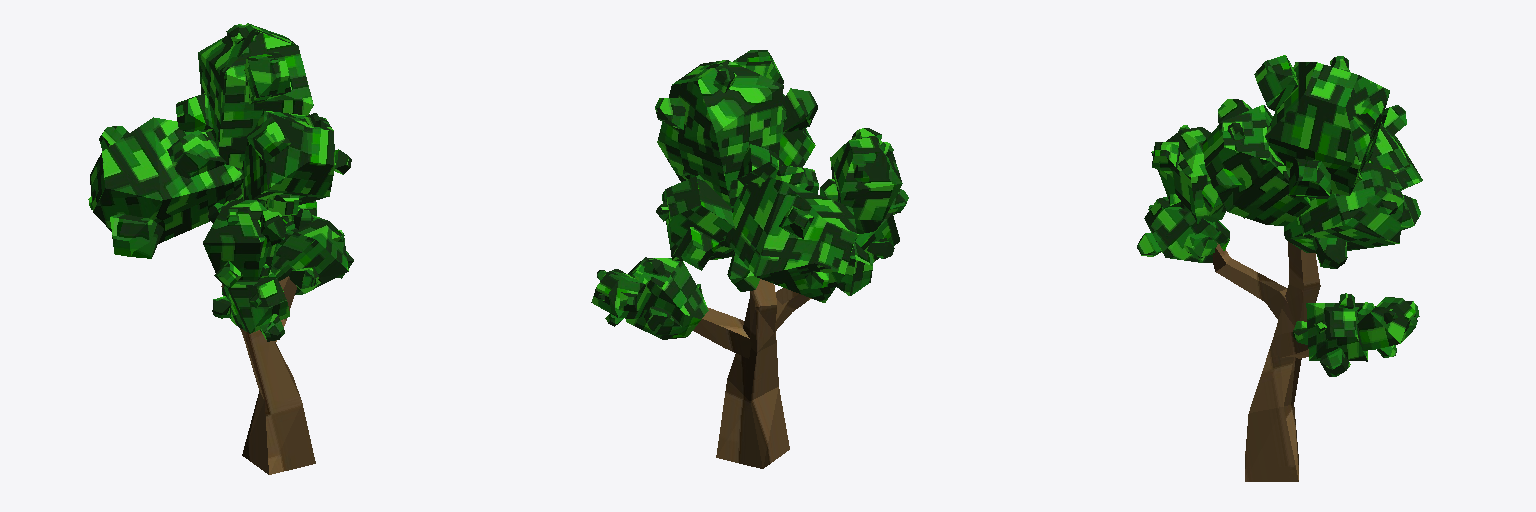
3 views of the same model, side by side, from view 1: azimuth 30°, elevation 25°; view 2: azimuth 150°, elevation 25°; view 3: azimuth 270°, elevation 25° (orthographic).
Parts seen in each view (by area): view 1: arbol:Mesh, arbol:MeshpolySurface1; view 2: arbol:Mesh, arbol:MeshpolySurface1; view 3: arbol:Mesh, arbol:MeshpolySurface1.
Boxes of the visible parts, box(x1,y1,x2,y2) form: arbol:Mesh: box(88, 23, 353, 341); arbol:MeshpolySurface1: box(221, 276, 315, 474); arbol:Mesh: box(591, 50, 908, 339); arbol:MeshpolySurface1: box(693, 279, 811, 468); arbol:Mesh: box(1137, 55, 1422, 376); arbol:MeshpolySurface1: box(1212, 241, 1320, 481).
Size of the model in its own units: 2.06 by 3.25 by 2.06.
2 materials, 2 textured.